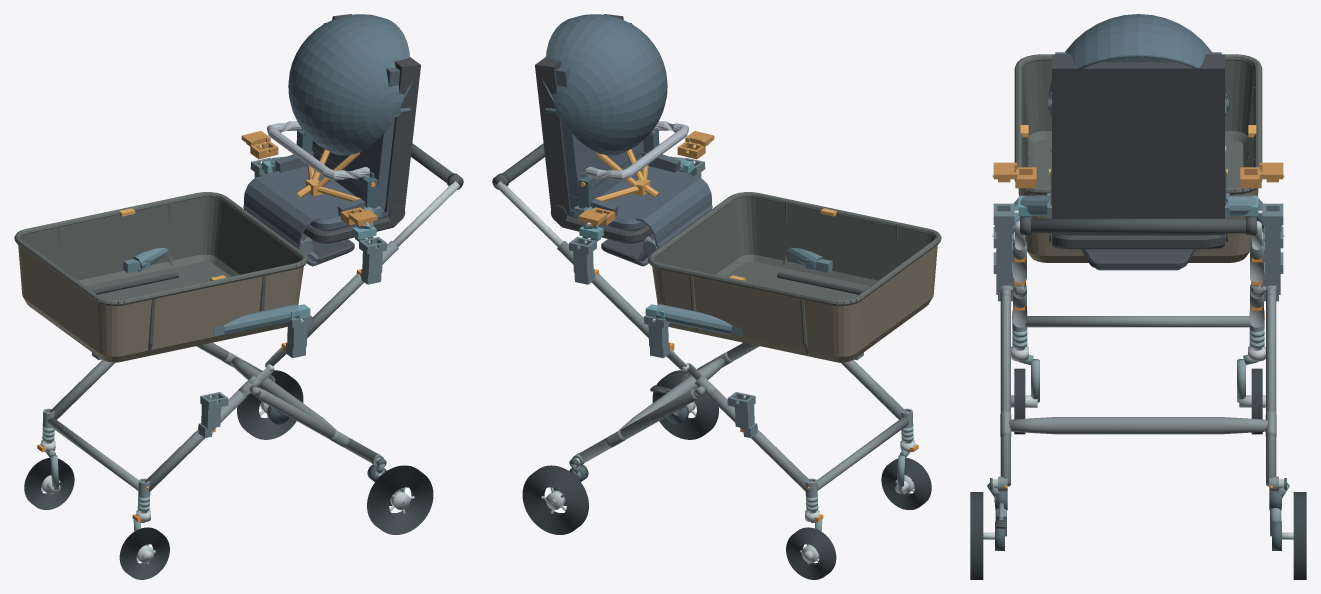
Rendered from D17_w650_state1_wheel_S.glb.
3 views of the same model, side by side, from view 1: azimuth 30°, elevation 25°; view 2: azimuth 150°, elevation 25°; view 3: azimuth 270°, elevation 25° (orthographic). The views are drawn at different scales.
Parts seen in each view (by area): view 1: D17_Lower, D17_Upper, RL_tire.008, D17_Lower_Mount_M, RR_tire.008, FL_tire.008, FR_tire.008, V46_rear_leg_-1.009, main_lower_-1.009, front_fixed_round_tube.008, main_upper_-1.009, V46_rearbar.009 (+8 smaller); view 2: D17_Lower, D17_Upper, RR_tire.008, D17_Lower_Mount_M, FR_tire.008, RL_tire.008, FL_tire.008, V46_rear_leg_1.009, main_lower_1.009, front_fixed_round_tube.008, main_upper_1.009, V46_rearbar.009 (+8 smaller); view 3: D17_Upper, D17_Lower, V46_rearbar.009, round_handle.008, front_fixed_round_tube.008, V46_rear_leg_1.009, V46_rear_leg_-1.009, D17_Upper_Mount_H, RL_tire.008, RR_tire.008, Universal_Cabin_Receiver_H_1, Universal_Cabin_Receiver_H_-1 (+8 smaller).
Boxes of the visible parts, bbox=[...] form: D17_Lower: bbox=[14, 192, 307, 362]; D17_Upper: bbox=[243, 14, 420, 266]; RL_tire.008: bbox=[367, 465, 433, 534]; D17_Lower_Mount_M: bbox=[123, 247, 310, 336]; RR_tire.008: bbox=[237, 370, 303, 439]; FL_tire.008: bbox=[119, 527, 169, 579]; FR_tire.008: bbox=[24, 458, 74, 509]; V46_rear_leg_-1.009: bbox=[258, 389, 377, 463]; main_lower_-1.009: bbox=[145, 390, 249, 491]; front_fixed_round_tube.008: bbox=[47, 418, 138, 490]; main_upper_-1.009: bbox=[307, 241, 398, 337]; V46_rearbar.009: bbox=[230, 357, 337, 430]; D17_Lower: bbox=[648, 192, 941, 362]; D17_Upper: bbox=[535, 14, 712, 266]; RR_tire.008: bbox=[522, 465, 588, 534]; D17_Lower_Mount_M: bbox=[645, 247, 832, 336]; FR_tire.008: bbox=[786, 527, 836, 579]; RL_tire.008: bbox=[652, 370, 718, 439]; FL_tire.008: bbox=[881, 458, 931, 509]; V46_rear_leg_1.009: bbox=[578, 389, 697, 463]; main_lower_1.009: bbox=[706, 390, 810, 491]; front_fixed_round_tube.008: bbox=[817, 418, 908, 490]; main_upper_1.009: bbox=[557, 241, 648, 337]; V46_rearbar.009: bbox=[618, 357, 725, 430]; D17_Upper: bbox=[1048, 14, 1228, 270]; D17_Lower: bbox=[1014, 54, 1262, 262]; V46_rearbar.009: bbox=[1009, 417, 1267, 434]; round_handle.008: bbox=[1020, 218, 1256, 233]; front_fixed_round_tube.008: bbox=[1025, 316, 1251, 327]; V46_rear_leg_1.009: bbox=[1266, 293, 1276, 486]; V46_rear_leg_-1.009: bbox=[1000, 293, 1010, 486]; D17_Upper_Mount_H: bbox=[1014, 193, 1262, 218]; RL_tire.008: bbox=[970, 492, 983, 579]; RR_tire.008: bbox=[1293, 492, 1306, 579]; Universal_Cabin_Receiver_H_1: bbox=[1262, 203, 1283, 262]; Universal_Cabin_Receiver_H_-1: bbox=[993, 203, 1014, 262].
Size of the model in its own units: 1.18 by 1.43 by 0.766.
